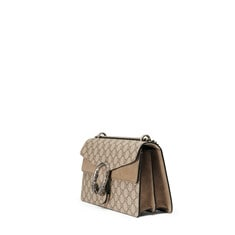Gucci: (63, 122, 178, 225), (88, 158, 125, 202)
